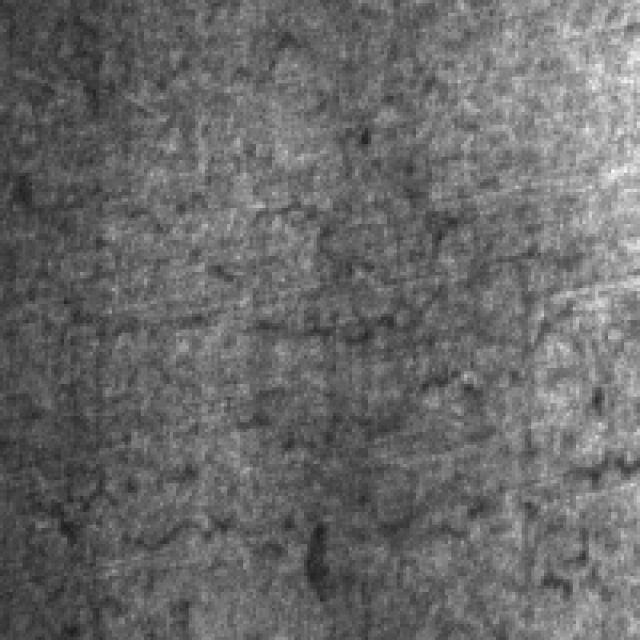crazing: (51, 182, 563, 512)
